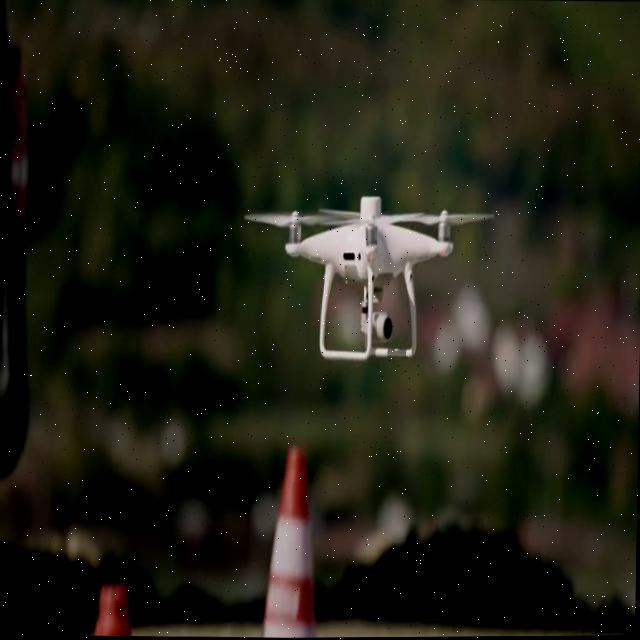drone: (240, 192, 498, 366)
